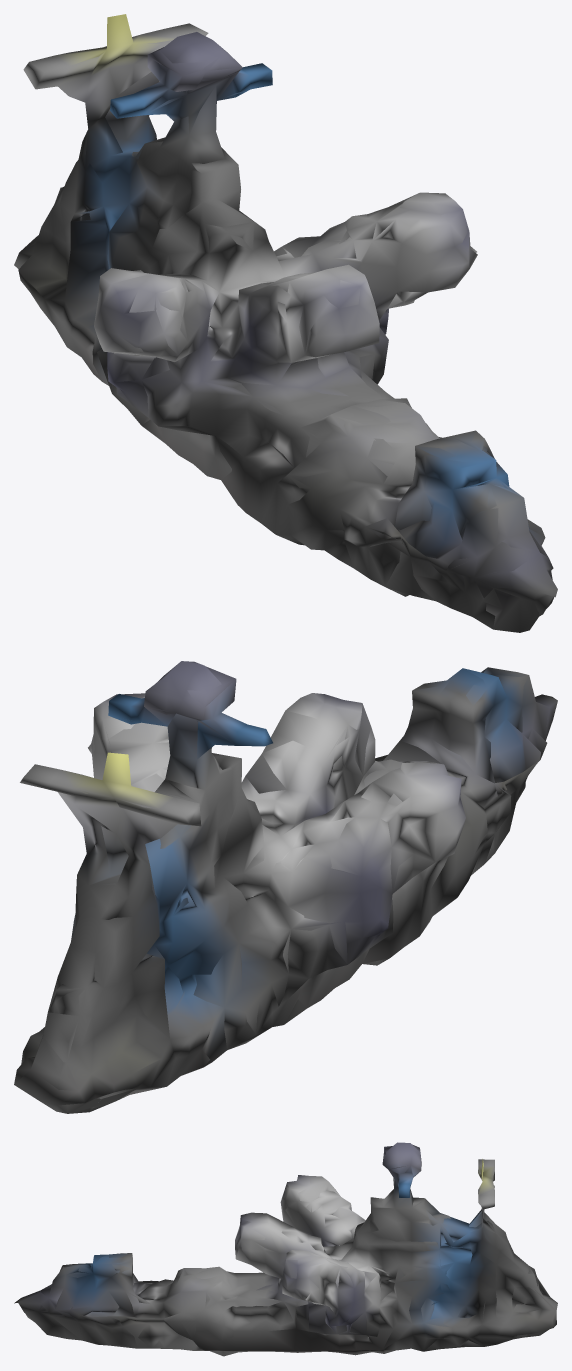
The model's file is aegis_cruiser.glb.
3 renders of one model, top to bottom at view 1: azimuth 30°, elevation 25°; view 2: azimuth 150°, elevation 25°; view 3: azimuth 270°, elevation 25°, orthographic. The views are drawn at different scales.
Parts seen in each view (by area): view 1: aegis_cruiser; view 2: aegis_cruiser; view 3: aegis_cruiser.
Boxes of the visible parts, x1=… form: aegis_cruiser: x1=14, y1=14, x2=557, y2=632; aegis_cruiser: x1=14, y1=661, x2=557, y2=1113; aegis_cruiser: x1=14, y1=1142, x2=557, y2=1356.
Bounding box in the file's own units: 3.43 × 3.17 × 7.97.
